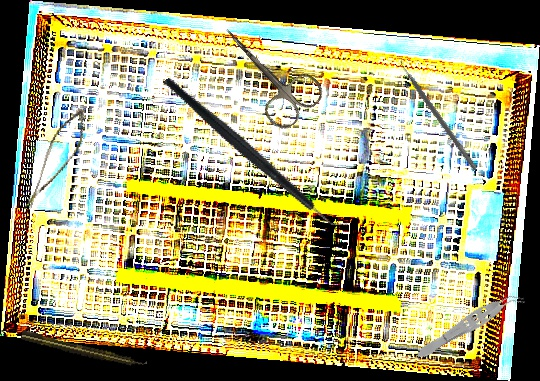Chopper: (162, 35, 351, 270)
Handpiece: (20, 328, 148, 372)
Iris Scissors: (204, 7, 329, 136)
Micro Scissor: (24, 101, 91, 219)
Spatula Surgical: (394, 56, 483, 171)
Tissue Forceps: (412, 285, 527, 365)
